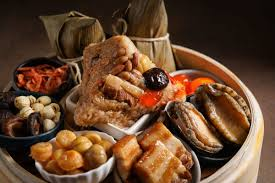zongzi: (74, 36, 185, 128), (112, 0, 175, 71), (39, 11, 104, 58)
